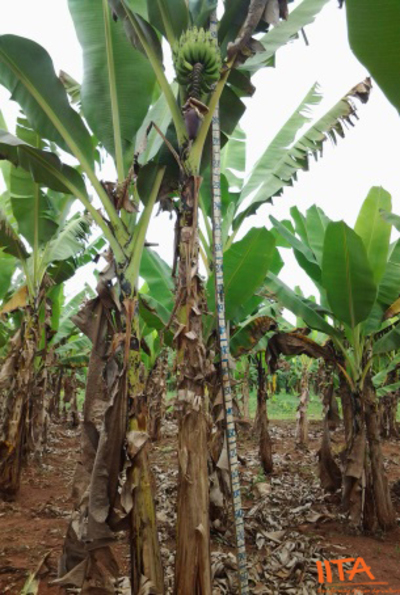bananaHand: (171, 25, 228, 93)
